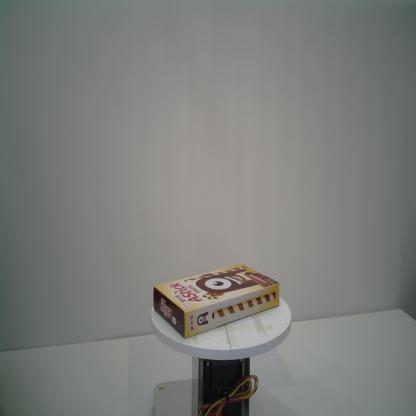Dessert: (152, 263, 281, 340)
